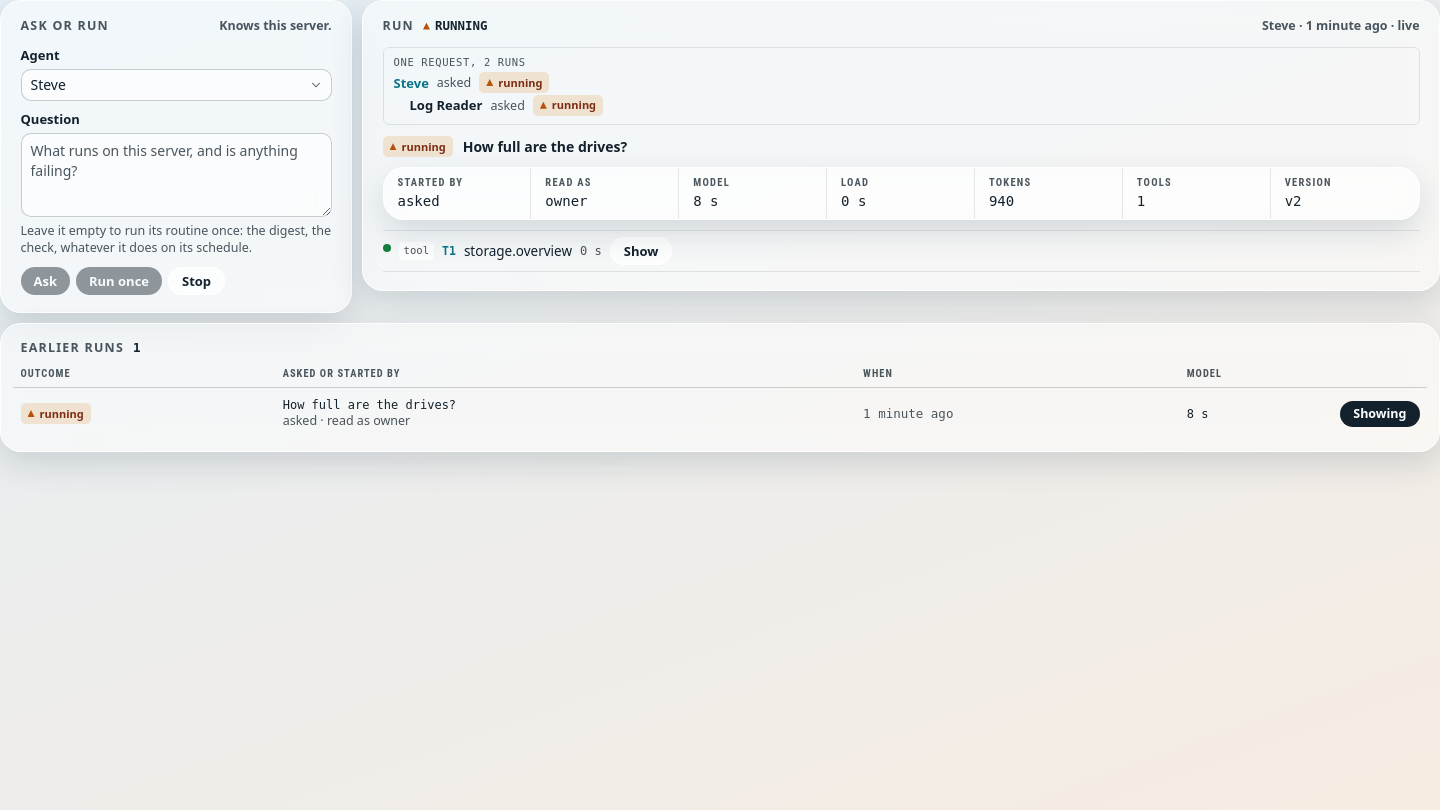
Test: the run on show › keeps the trace and the request's runs when a run is stopped
What coordinates should you click on to do the following:
click the button "Stop"
I would click on:
 (197, 281)
Its box is [168,267,225,295].
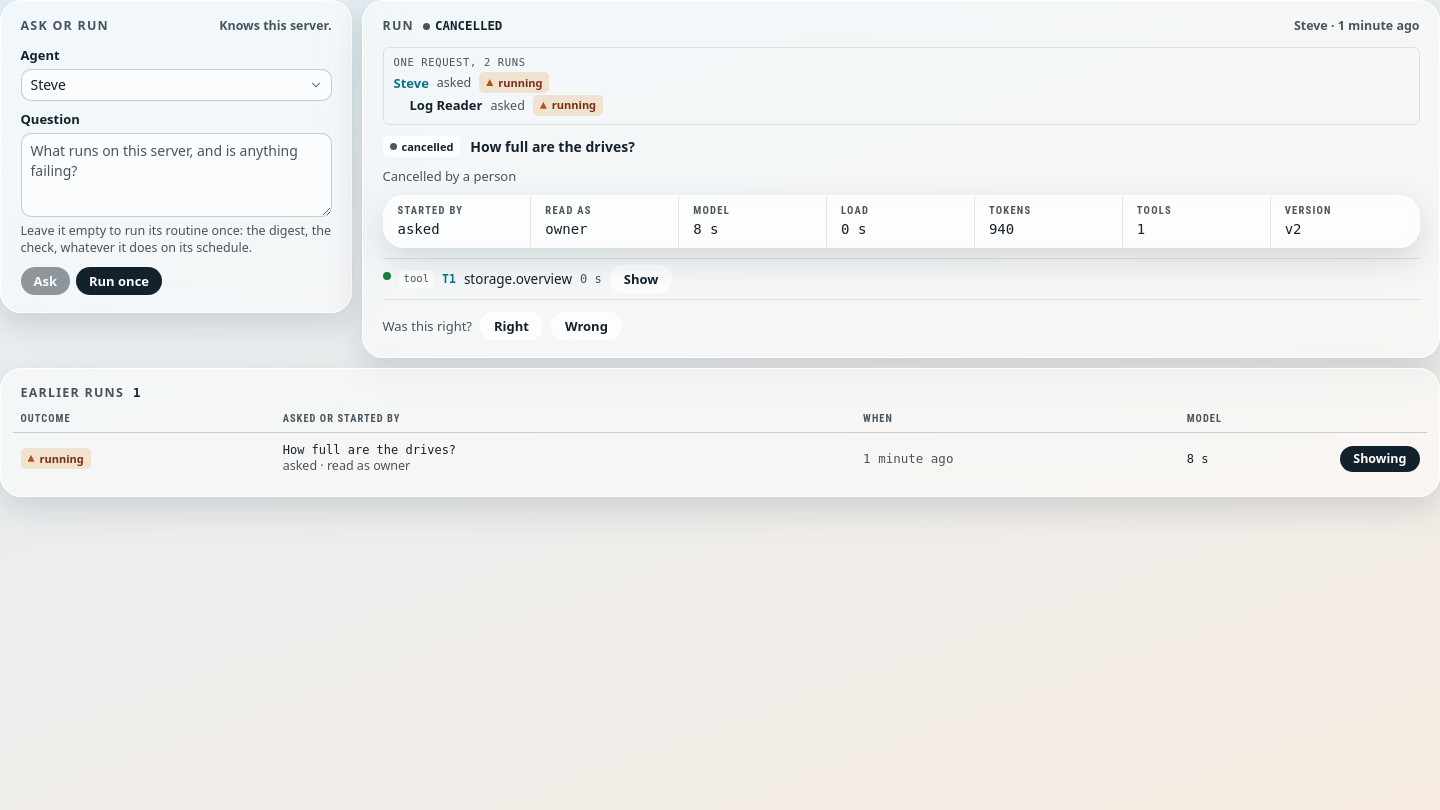
Check: the navigation bar named "This request's runs" is shown, box [382,47,1420,125]
Check: the text "Cancelled by a person" is shown, box [382,167,516,185]
